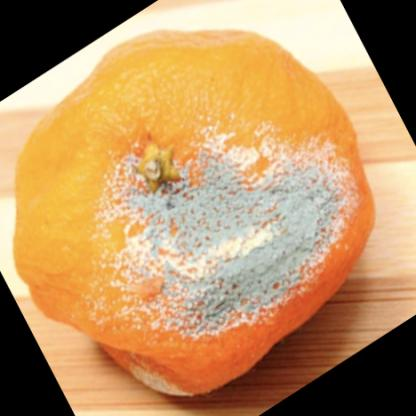rotten: (15, 33, 376, 398)
